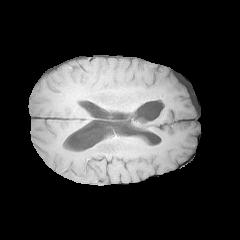glioma: (130, 90, 166, 131)
